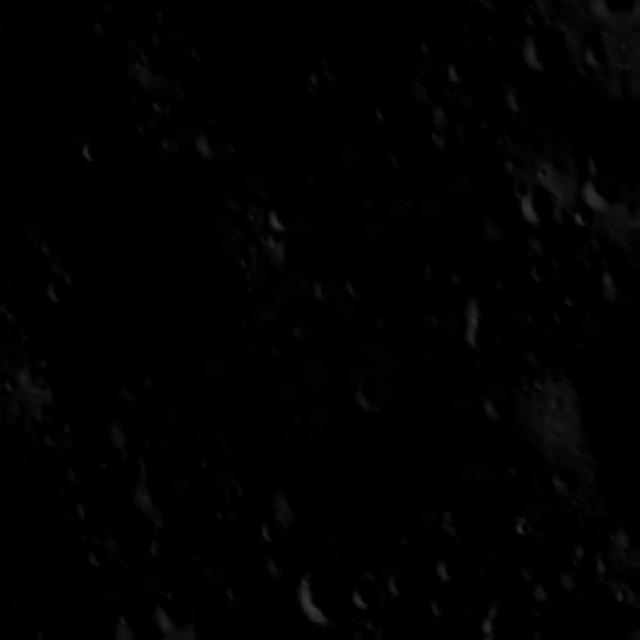crater: (292, 555, 370, 636), (515, 22, 580, 83), (467, 279, 521, 339), (392, 356, 442, 419), (513, 175, 565, 233), (179, 30, 241, 78), (342, 256, 387, 312), (477, 380, 525, 426), (156, 591, 199, 640), (260, 194, 306, 238), (111, 609, 172, 640), (309, 267, 351, 310), (438, 545, 480, 587), (352, 569, 386, 620), (198, 125, 238, 167), (39, 274, 79, 315), (256, 512, 296, 552), (525, 256, 567, 293), (422, 252, 460, 292), (446, 56, 482, 96), (387, 564, 424, 602), (572, 196, 605, 238), (438, 433, 477, 467), (281, 20, 316, 54), (369, 96, 402, 132), (427, 594, 461, 628), (284, 401, 318, 434), (17, 14, 52, 46), (72, 494, 105, 526), (59, 412, 93, 442), (440, 0, 523, 12), (86, 544, 119, 574), (90, 12, 122, 42), (40, 426, 74, 454), (394, 527, 428, 555), (66, 460, 95, 491), (76, 138, 104, 168), (0, 23, 14, 59)
